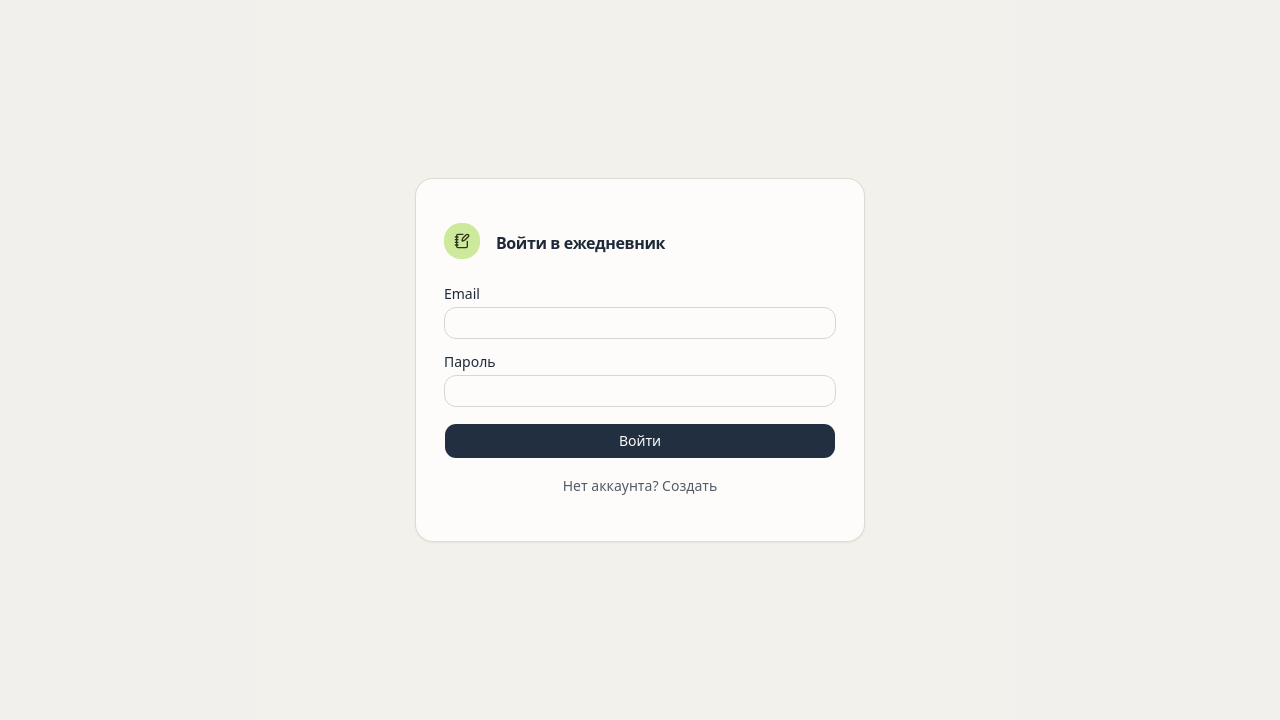
Test: planner chat › logs in and opens chat
In the field labelled "Email": (640, 323) [444,307,836,339], type "a@example.test"
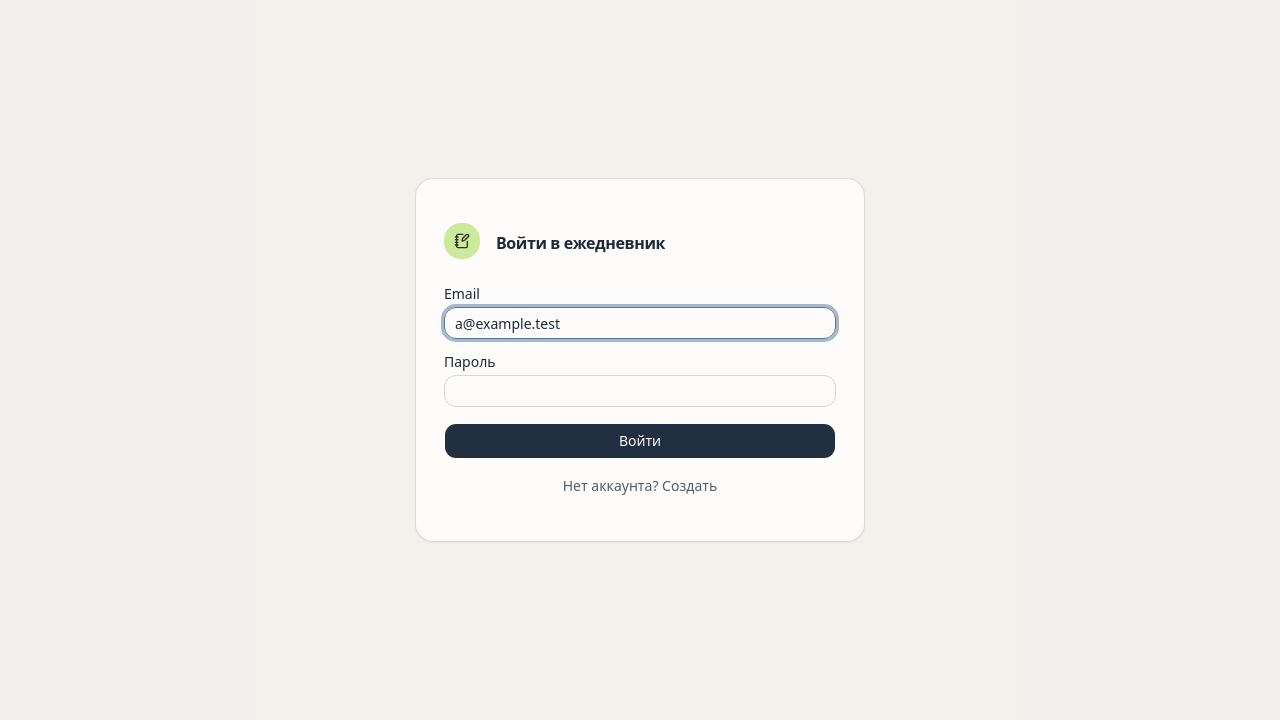
In the password field labelled "Пароль": (640, 391) [444,375,836,407], type "password1"
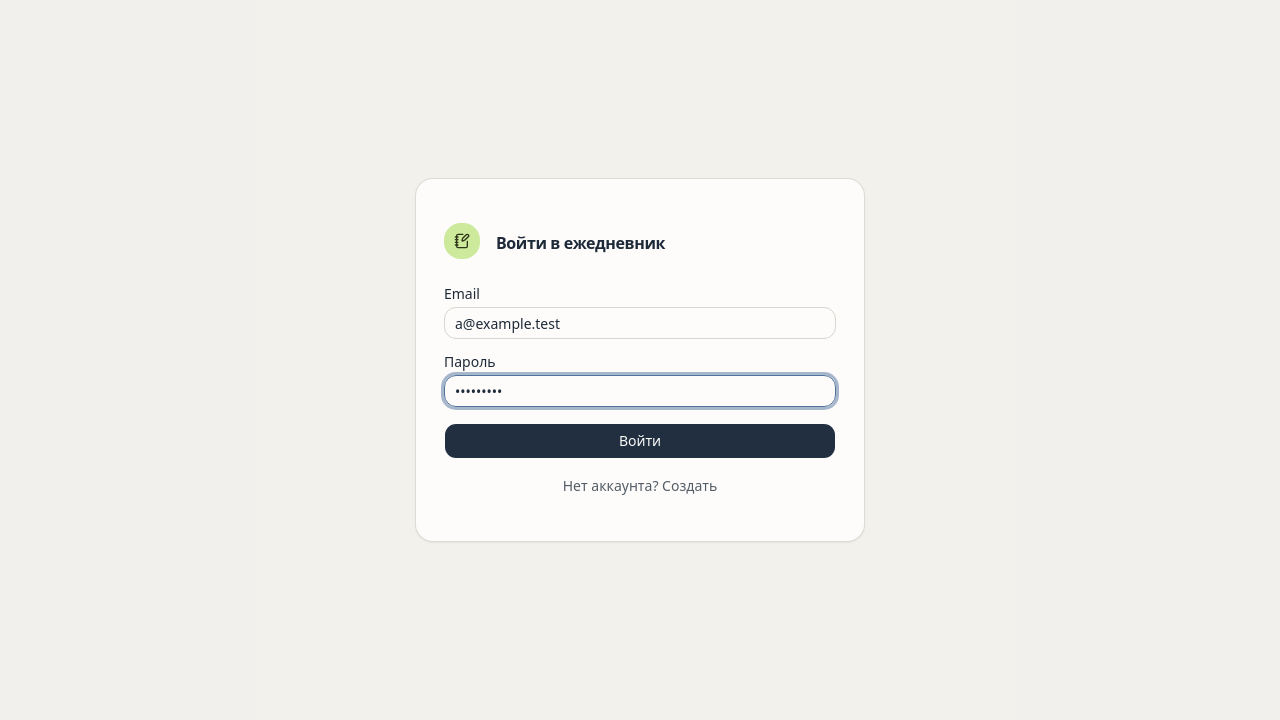
Click the button "Войти": click(640, 441) [444,423,836,459]
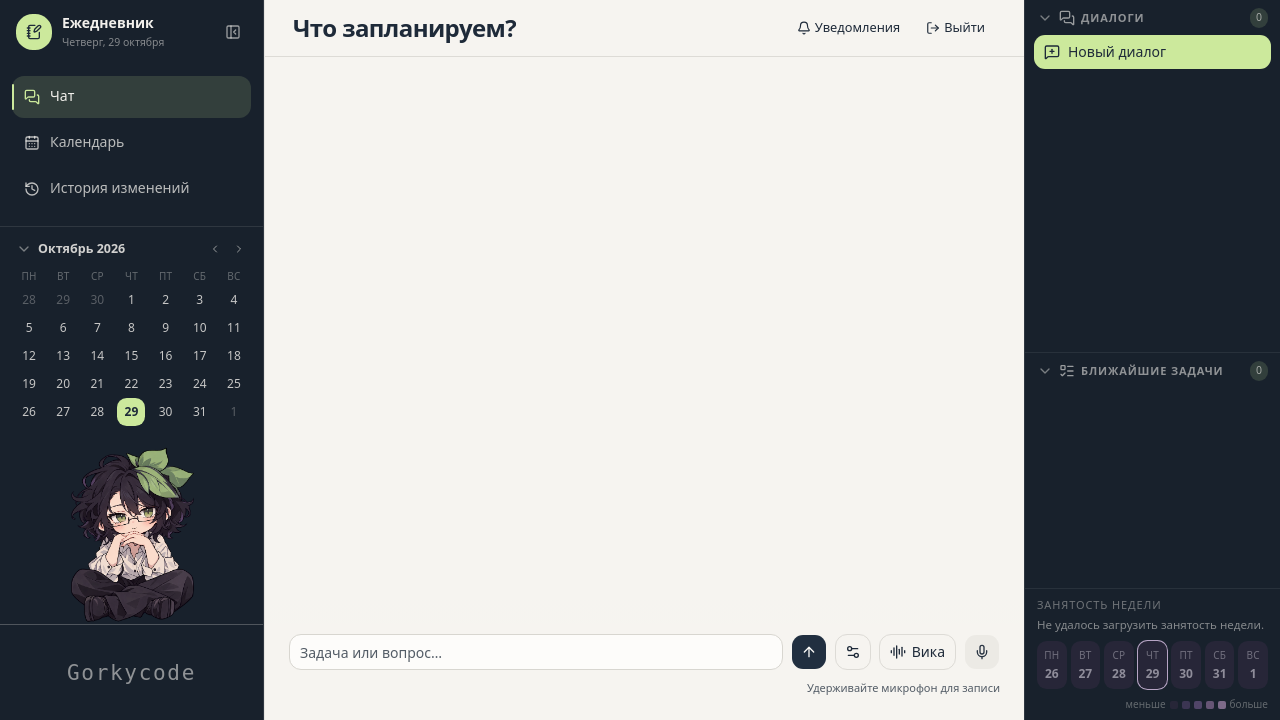
Expected: the heading "Что запланируем?" is shown, [293,12,516,44]
